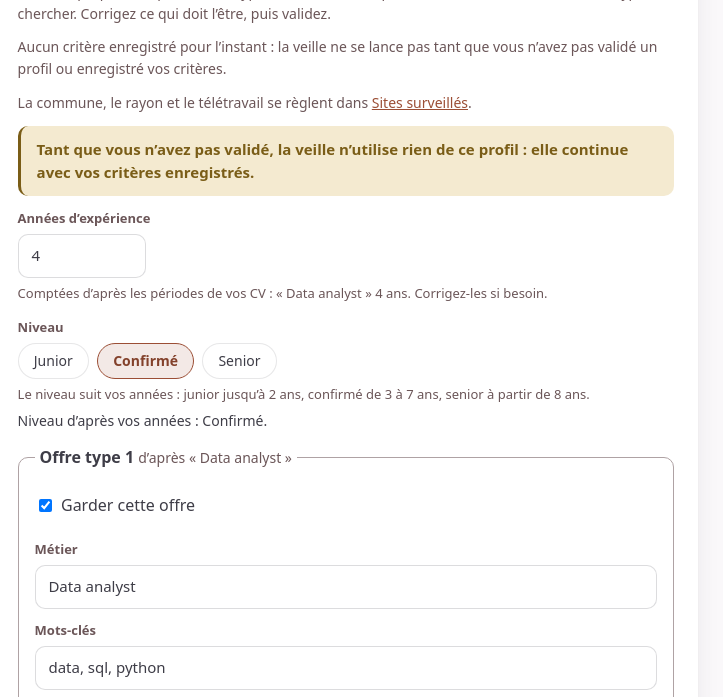
Test case: WatchSettings — the deduced profile to validate (EF-VEI-43 to EF-VEI-47) › [EF-VEI-47] sends the level alone when the candidate picks one that the years do not give, and says so
(page scrolled)
Step 1. Click the radio button labelled "Senior" → [239, 361], box [202,343,277,379]
(page scrolled)
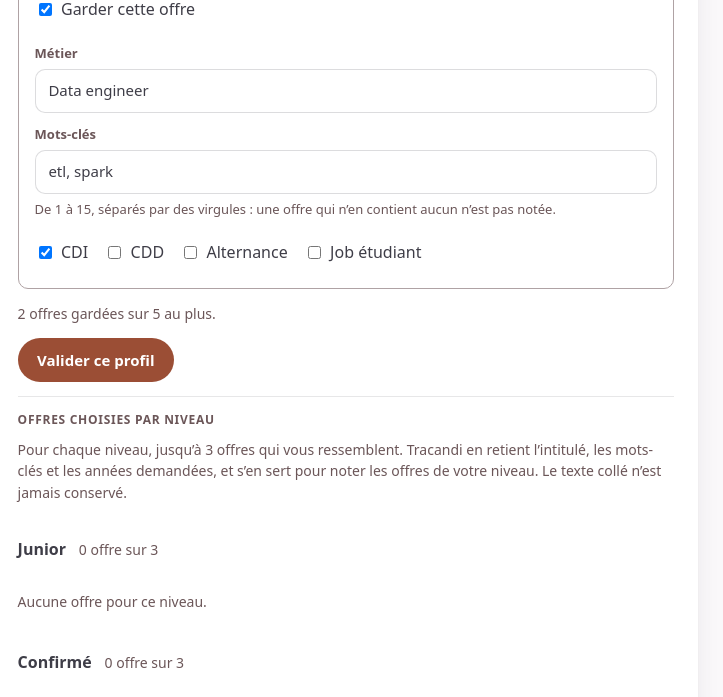
Step 2. Click the button "Valider ce profil" → [96, 360], box [18,338,174,382]
(page scrolled)
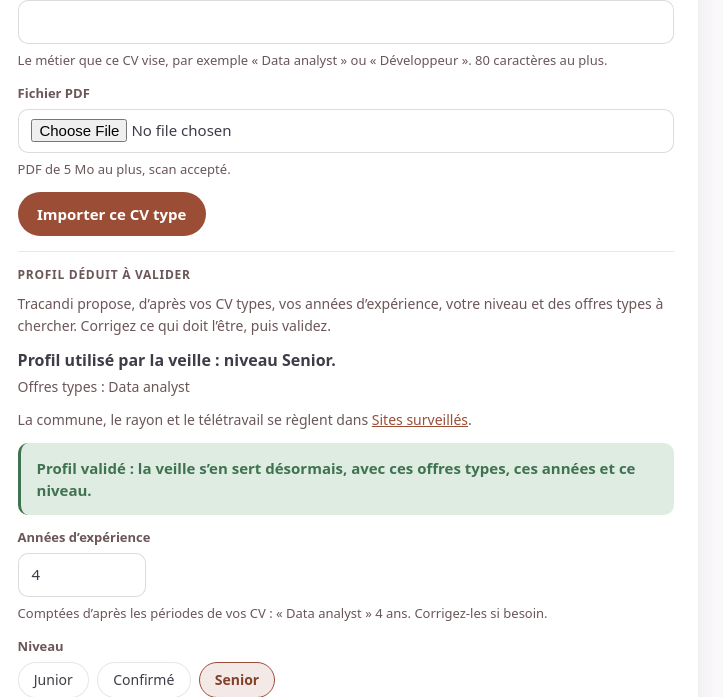
Check: the text "Profil validé" is shown, box [37,458,636,500]
Check: the text "Profil utilisé par la veille : niveau Senior." is shown, box [18,349,336,371]
